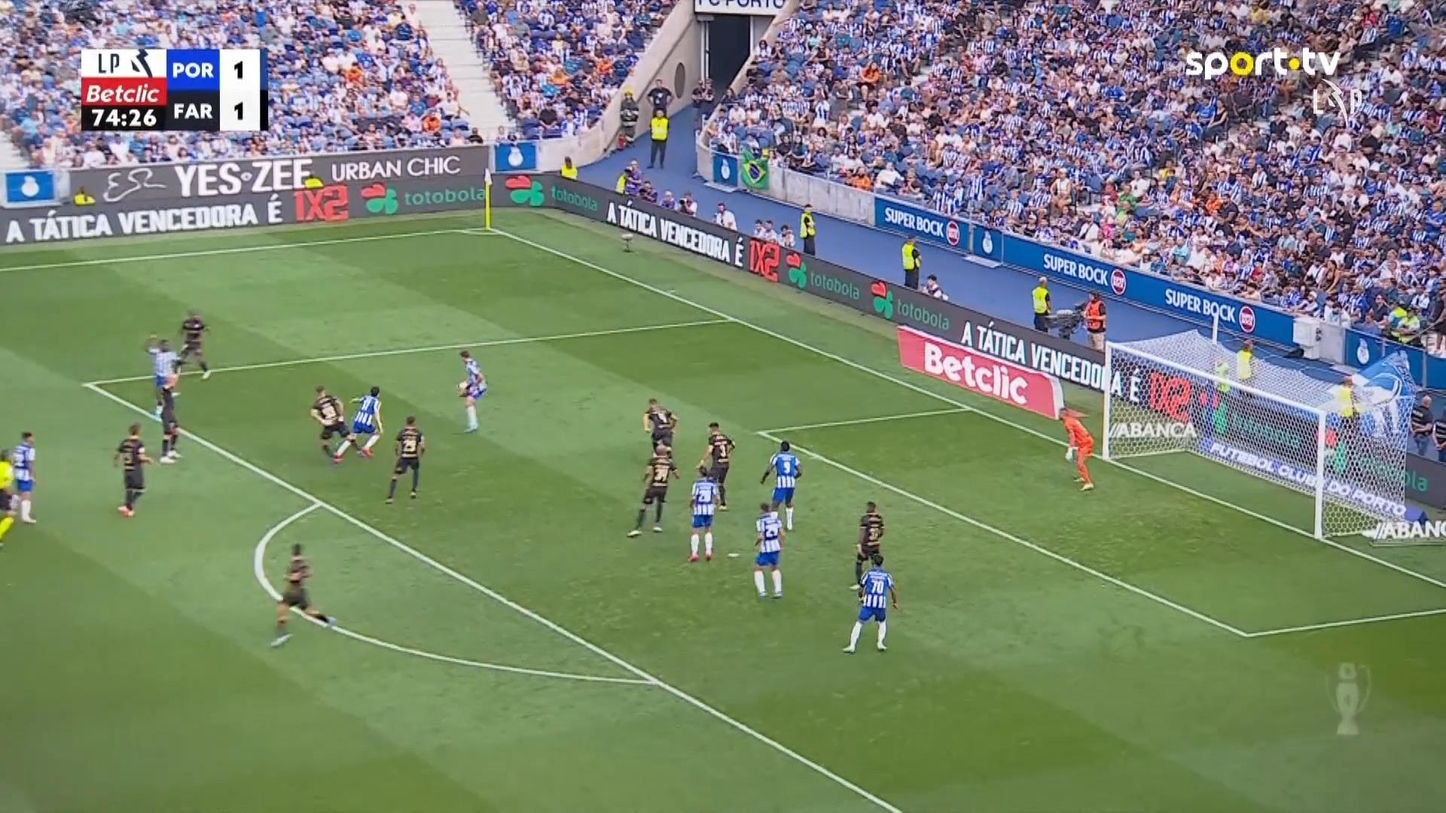ball: (458, 380, 468, 395)
goalkeeper: (1057, 404, 1095, 491)
player: (269, 542, 337, 647), (841, 553, 898, 653), (626, 442, 680, 537), (111, 421, 153, 517), (759, 439, 802, 531), (333, 385, 383, 461), (309, 384, 357, 463), (384, 414, 426, 504), (696, 420, 734, 511), (686, 464, 721, 562), (752, 501, 785, 598), (144, 333, 183, 411), (851, 500, 884, 589), (456, 349, 487, 433), (175, 309, 211, 379), (10, 430, 37, 523), (156, 372, 182, 463), (642, 397, 678, 457), (0, 447, 18, 547)
